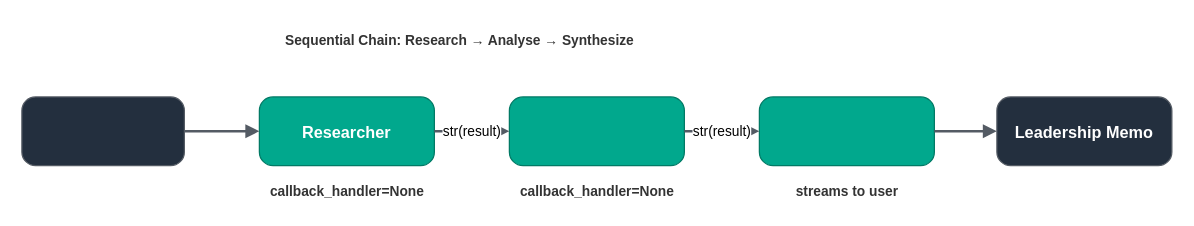
This 1194x226 diagram has some shape labels left out. The centre of each missing label's shape, as x and y in pixels:
"Analyst" belongs at pixel 596 131.
"Decision Brief" belongs at pixel 102 131.
"Synthesizer" belongs at pixel 846 131.
